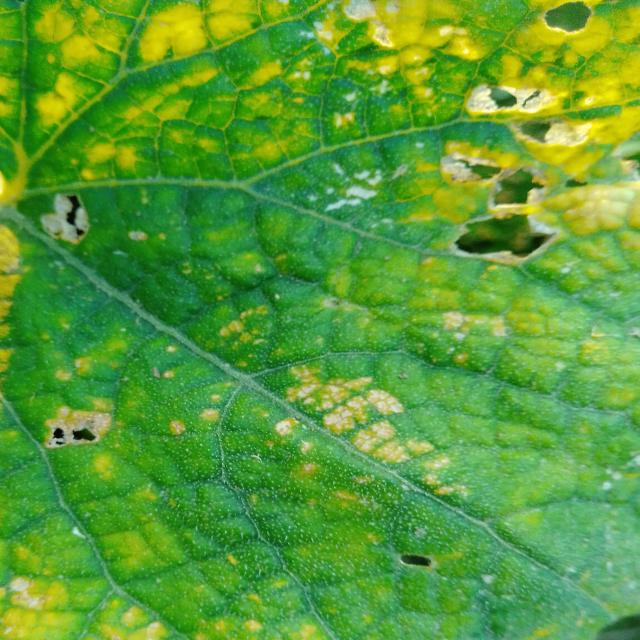cucumber_anthracnose: (39, 5, 632, 610)
